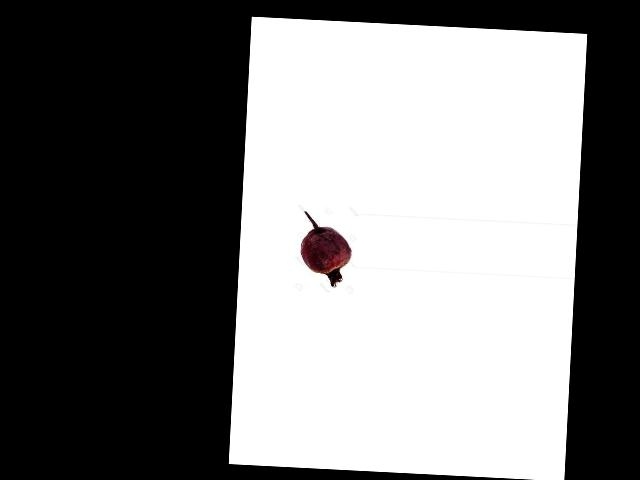beet: (298, 211, 352, 288)
